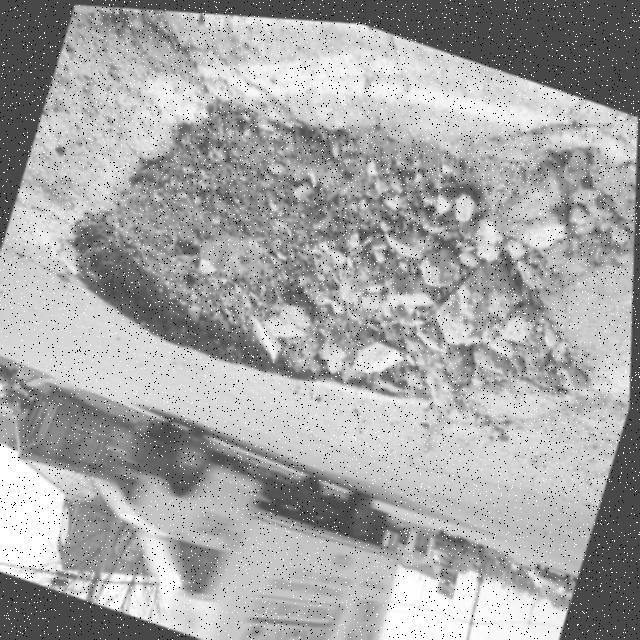pothole: (50, 12, 611, 470)
